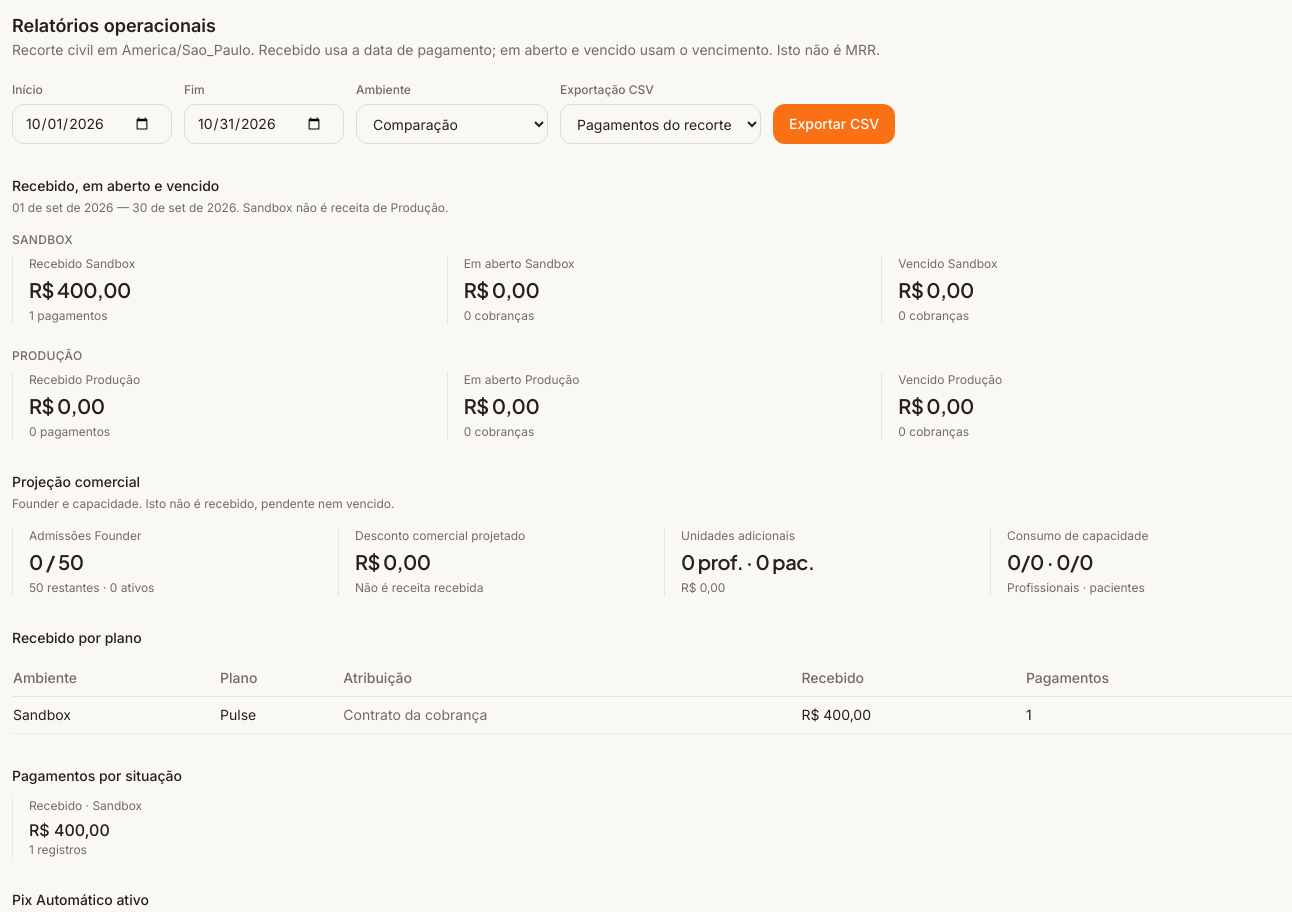
Test: PlatformBillingReportsPage › exports CSV and reports a no-data export without inventing rows
Click the button "Exportar CSV" at [834, 124], box 773,104 -> 895,144
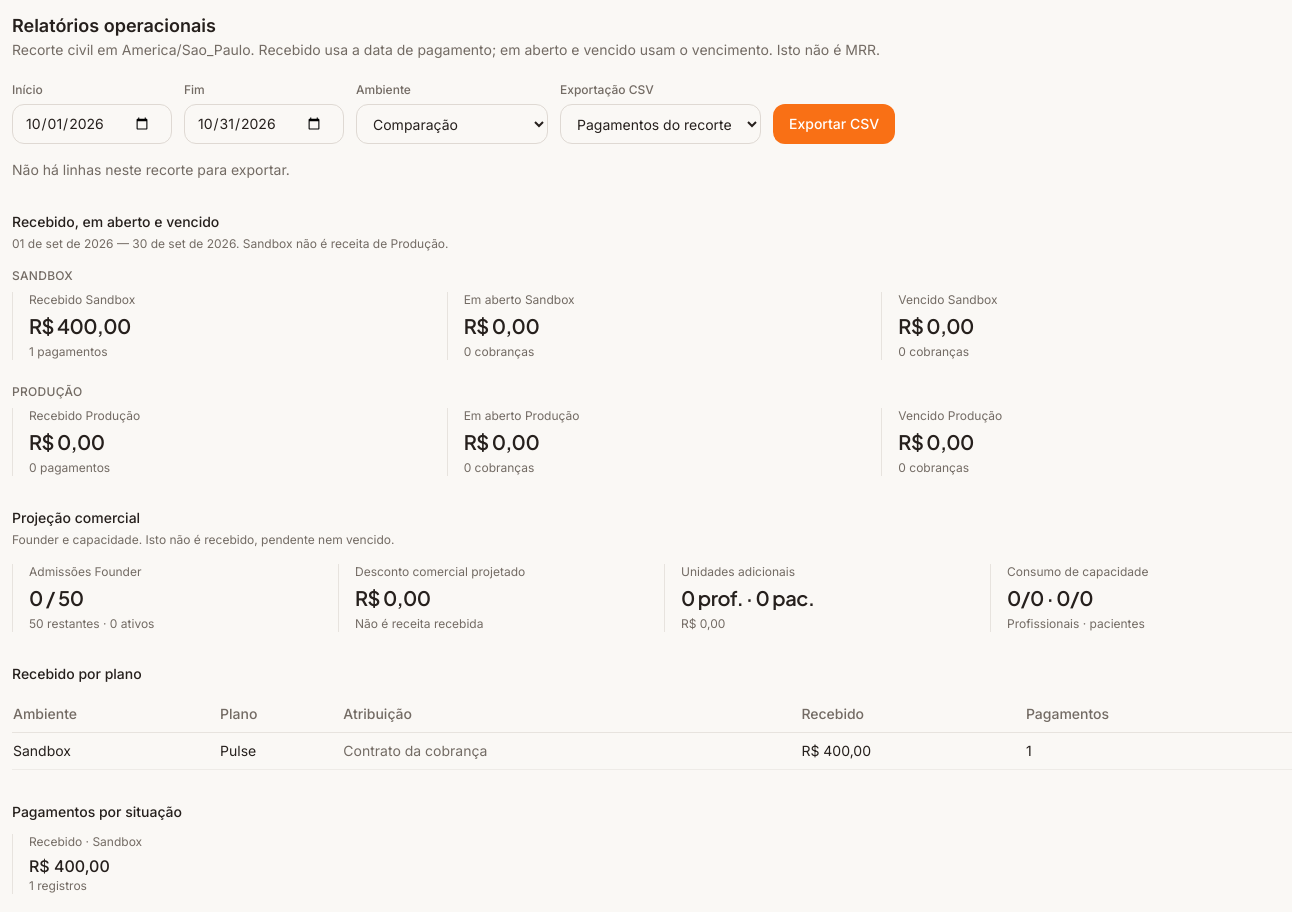
Result: the text "Não há linhas neste recorte para exportar." is shown at 12,161 -> 290,178
